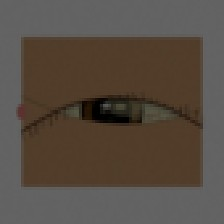corneal_ulcer: (93, 80, 155, 130)
